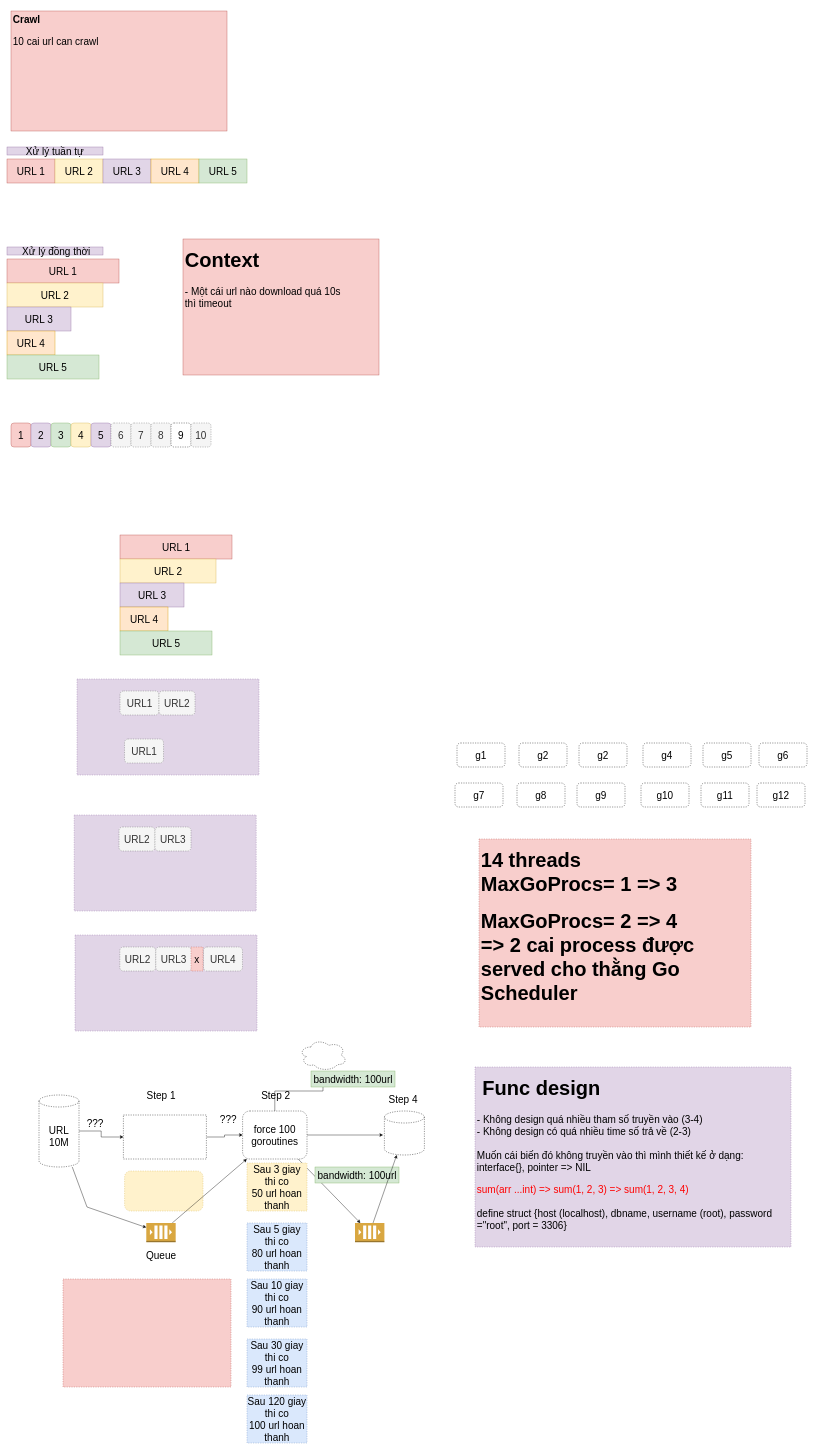
The diagram is 814 pixels wide and 1450 high, and some of its shapes have lost their labels. The shapes that lost their labels are listed below. From the top down, each one's centre as x and y in pixels, then its label:
At point (323, 1055): "Internet".
At point (164, 1137): "Get url ma chua download 100url".
At point (163, 1191): "Get tiep 50 url".
At point (147, 1333): "Keyword Giao tiep giua Goroutines => Su dung channel de giao tiep.".
